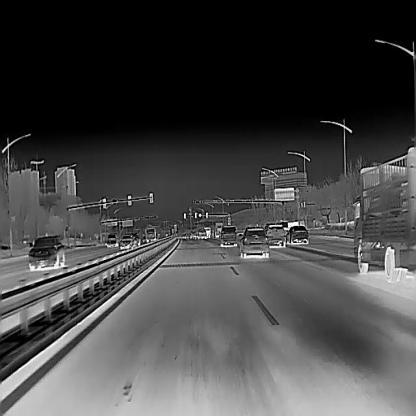car: (354, 145, 416, 283), (28, 233, 65, 268), (239, 224, 269, 258), (264, 223, 286, 247), (220, 223, 237, 247), (287, 224, 308, 242), (119, 232, 136, 248), (144, 227, 160, 242), (106, 232, 118, 247), (198, 229, 206, 238)
